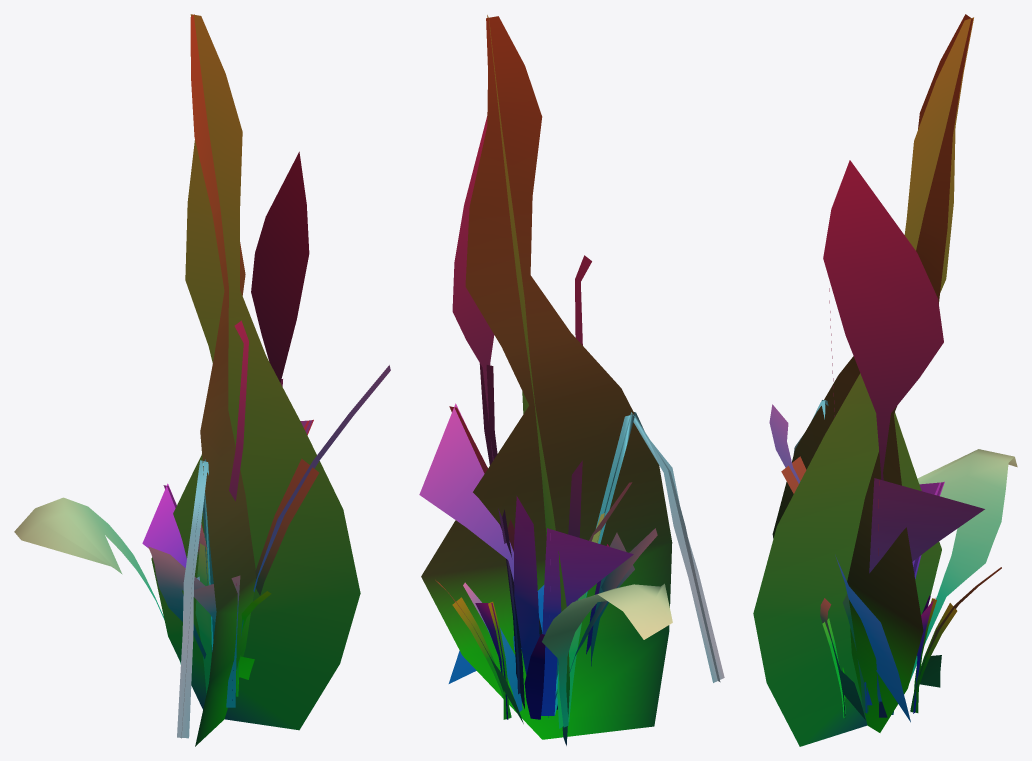
File: Dry_Grass_tbbqejqr_Mid_tbbqejqr_VarC_LOD0.fbx
The picture shows the model from 3 angles, left to right: view 1: azimuth 30°, elevation 25°; view 2: azimuth 150°, elevation 25°; view 3: azimuth 270°, elevation 25°; orthographic projection. The views are drawn at different scales.
Parts seen in each view (by area): view 1: _bee3_VarC_LOD1; view 2: _bee3_VarC_LOD1; view 3: _bee3_VarC_LOD1.
Part boxes in pixels (left/top/right/bottom): _bee3_VarC_LOD1: left=14, top=14, right=390, bottom=746; _bee3_VarC_LOD1: left=419, top=15, right=724, bottom=745; _bee3_VarC_LOD1: left=753, top=14, right=1017, bottom=746.
Bounding box in the file's own units: 21.06 × 48.01 × 16.
